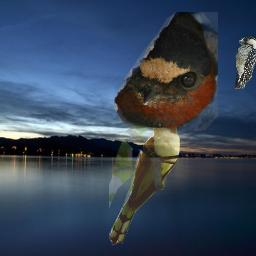Cuckoo: (109, 116, 180, 246)
Swallow: (114, 12, 218, 131)
Woodpecker: (235, 36, 256, 89)
